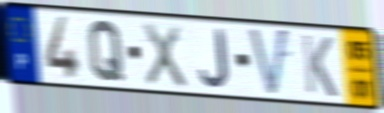4: (43, 14, 83, 82)
J: (197, 27, 231, 91)
K: (300, 32, 340, 100)
Q: (87, 18, 126, 83)
V: (246, 26, 292, 100)
X: (140, 20, 189, 90)
